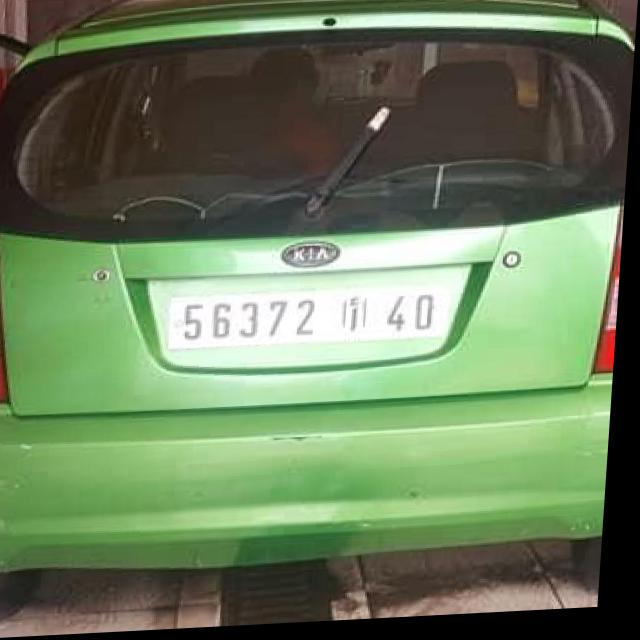License-Plate: (175, 291, 451, 351)
